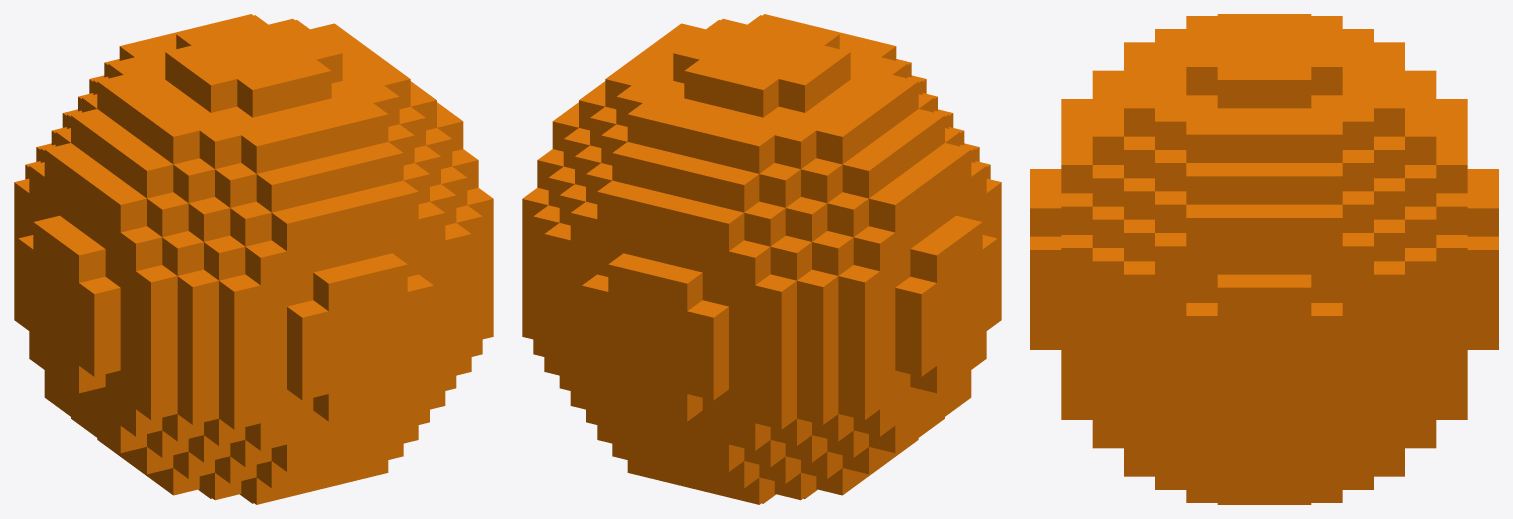
The model's file is Orange Ball.fbx.
3 renders of one model, left to right at view 1: azimuth 30°, elevation 25°; view 2: azimuth 150°, elevation 25°; view 3: azimuth 270°, elevation 25°, orthographic. The views are drawn at different scales.
Parts seen in each view (by area): view 1: Untitled.001; view 2: Untitled.001; view 3: Untitled.001.
Boxes of the visible parts, x1,y1,x2,y2 form: Untitled.001: (14,14,493,504); Untitled.001: (522,14,1001,504); Untitled.001: (1030,14,1498,504).
Bounding box in the file's own units: 150 × 150 × 150.
